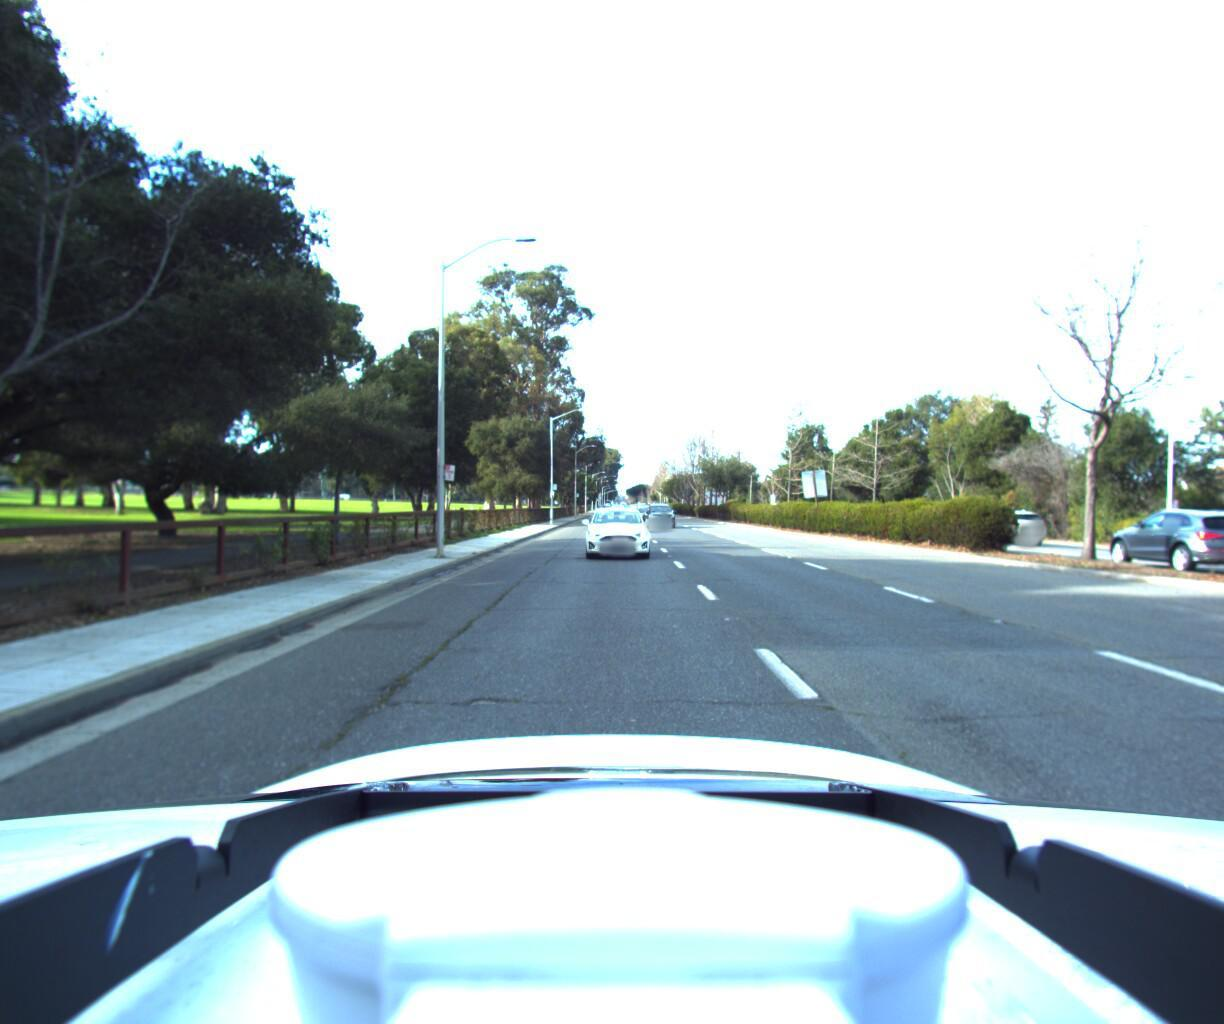car: (1076, 508, 1224, 573), (586, 503, 656, 560), (960, 509, 1037, 545), (1189, 529, 1224, 561), (646, 502, 676, 529)
